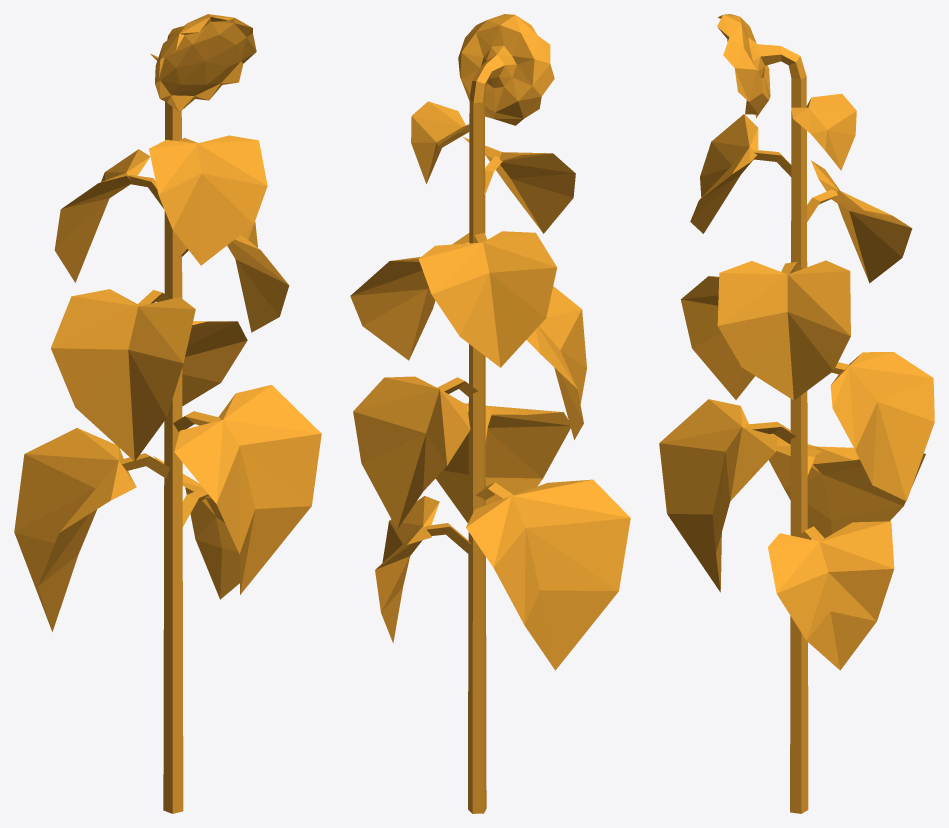
Rendered from SM_Sunflower_Plant_Ripe_C.fbx.
3 views of the same model, side by side, from view 1: azimuth 30°, elevation 25°; view 2: azimuth 150°, elevation 25°; view 3: azimuth 270°, elevation 25° (orthographic). The views are drawn at different scales.
Parts seen in each view (by area): view 1: sunflower-plant-ripe-c; view 2: sunflower-plant-ripe-c; view 3: sunflower-plant-ripe-c.
Part boxes in pixels (bbox=[...]): sunflower-plant-ripe-c: bbox=[14, 14, 321, 813]; sunflower-plant-ripe-c: bbox=[350, 14, 630, 813]; sunflower-plant-ripe-c: bbox=[659, 14, 934, 813].
Size of the model in its own units: 0.6953 by 2.13 by 0.6699.
